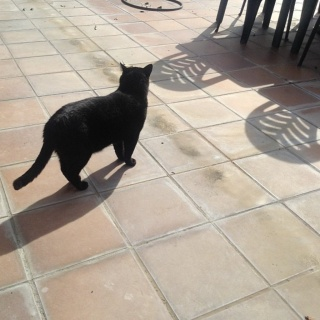Cat: (8, 57, 154, 191)
